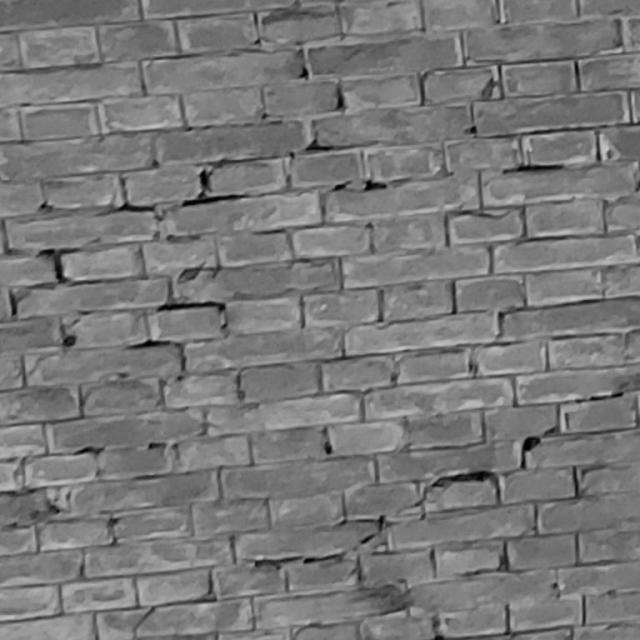crack: (132, 391, 623, 640)
